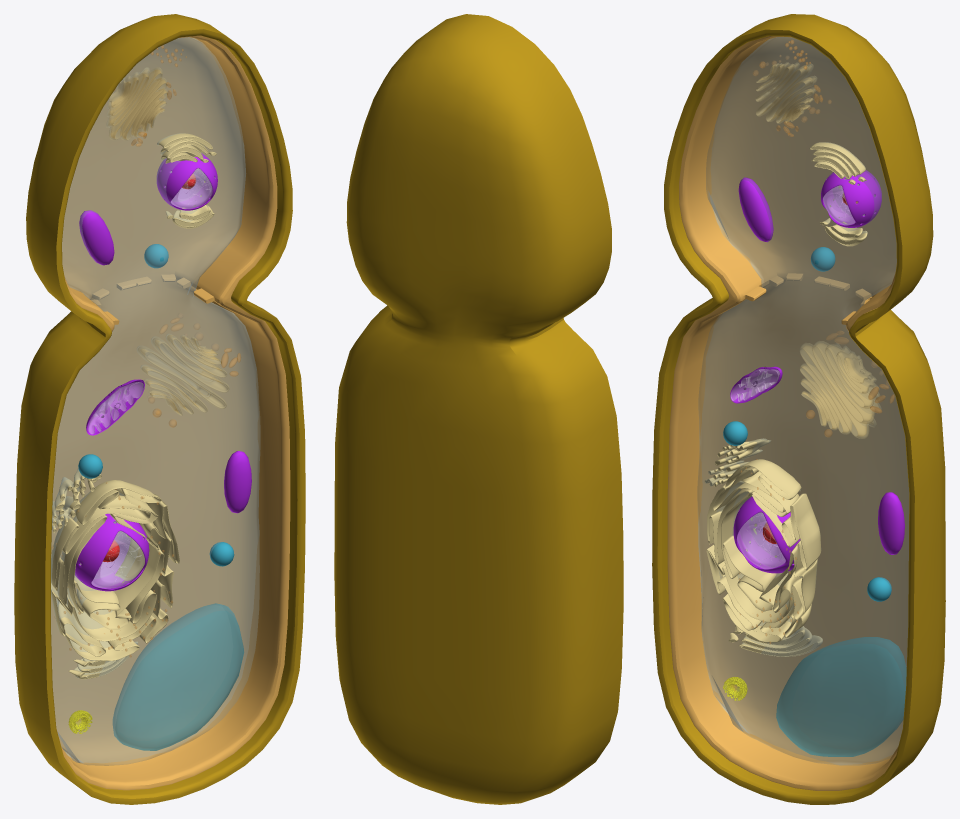
File: optimized_fungi.glb
3 renders of one model, left to right at view 1: azimuth 30°, elevation 25°; view 2: azimuth 150°, elevation 25°; view 3: azimuth 330°, elevation 25°, orthographic.
Visible parts, largest first — view 1: fungi; view 2: fungi; view 3: fungi.
Part boxes in pixels (bbox=[...]): fungi: bbox=[14, 14, 305, 804]; fungi: bbox=[334, 14, 623, 804]; fungi: bbox=[652, 14, 945, 804].
Size of the model in its own units: 1.07 by 3 by 0.3904.
